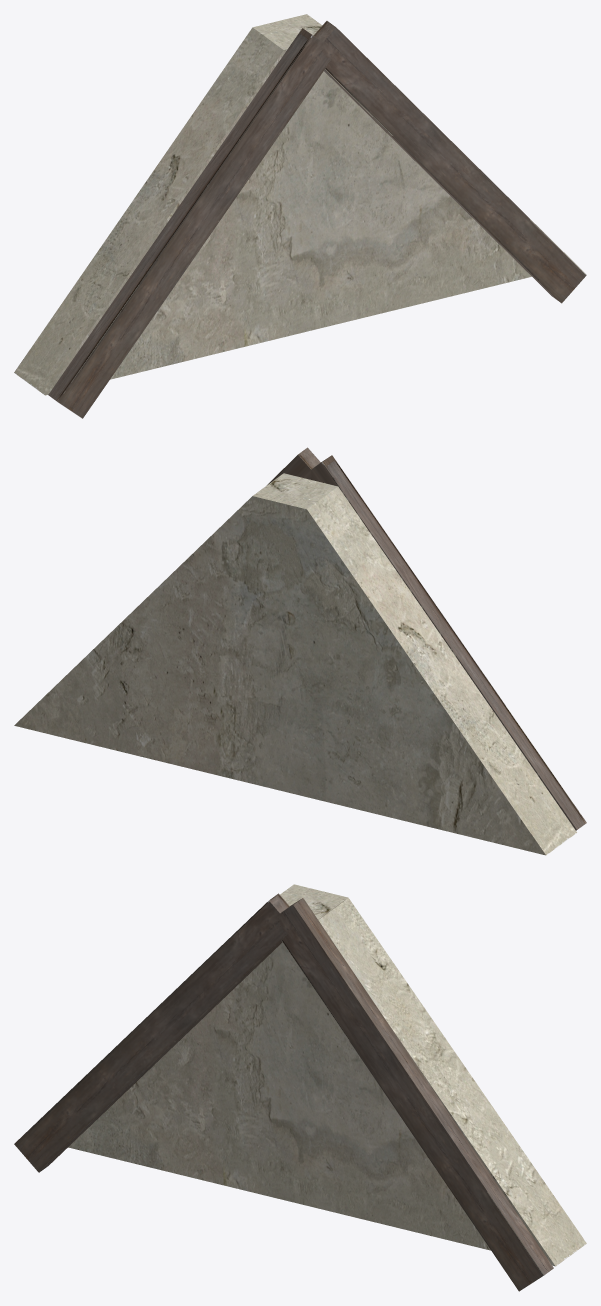
The model's file is pared_1_punta_G_C.fbx.
3 views of the same model, one above another, from view 1: azimuth 30°, elevation 25°; view 2: azimuth 150°, elevation 25°; view 3: azimuth 330°, elevation 25° (orthographic).
Visible parts, largest first — view 1: pared_1_punta_G_C; view 2: pared_1_punta_G_C; view 3: pared_1_punta_G_C.
Part boxes in pixels (x1=…): pared_1_punta_G_C: x1=14, y1=14, x2=586, y2=418; pared_1_punta_G_C: x1=14, y1=447, x2=586, y2=855; pared_1_punta_G_C: x1=14, y1=884, x2=586, y2=1291.
Size of the model in its own units: 401 by 239 by 55.38.
